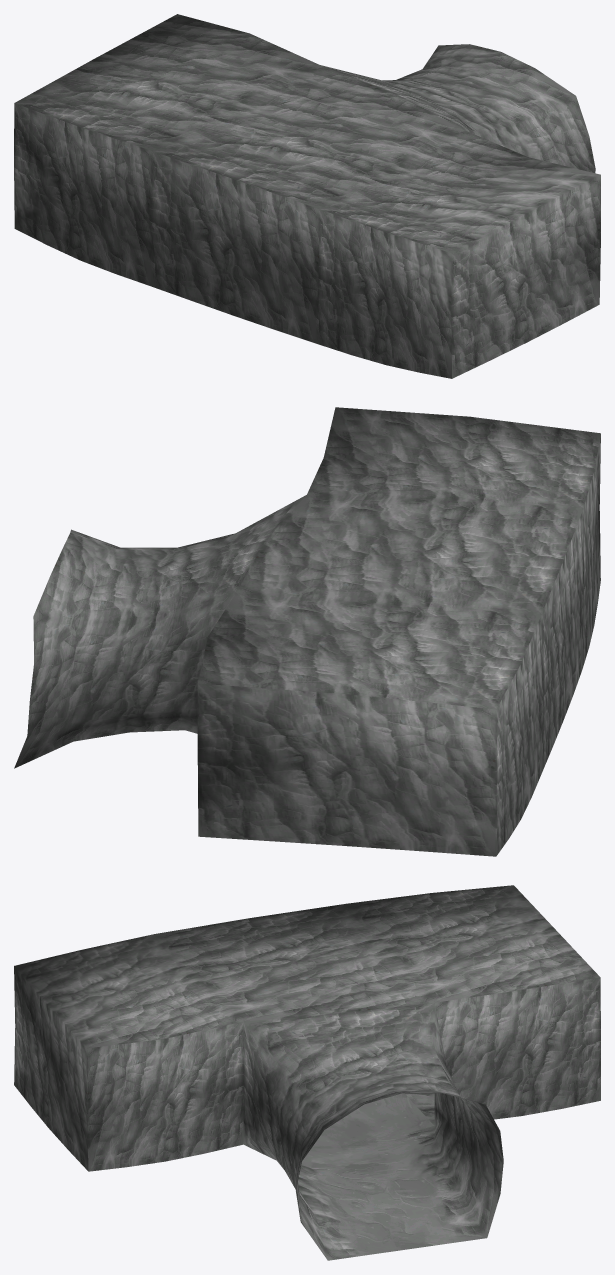
The model's file is SWORDLIGHT20_PS-AREA04_04.fbx.
3 views of the same model, one above another, from view 1: azimuth 30°, elevation 25°; view 2: azimuth 150°, elevation 25°; view 3: azimuth 270°, elevation 25° (orthographic). The views are drawn at different scales.
Visible parts, largest first — view 1: SWORDLIGHT20_PS-AREA04_04; view 2: SWORDLIGHT20_PS-AREA04_04; view 3: SWORDLIGHT20_PS-AREA04_04.
Boxes of the visible parts, x1,y1,x2,y2 form: SWORDLIGHT20_PS-AREA04_04: [14, 14, 600, 378]; SWORDLIGHT20_PS-AREA04_04: [14, 407, 600, 856]; SWORDLIGHT20_PS-AREA04_04: [14, 885, 600, 1260].
Size of the model in its own units: 165689 by 57001 by 186089.
Materials: 4 (4 with a texture image).
